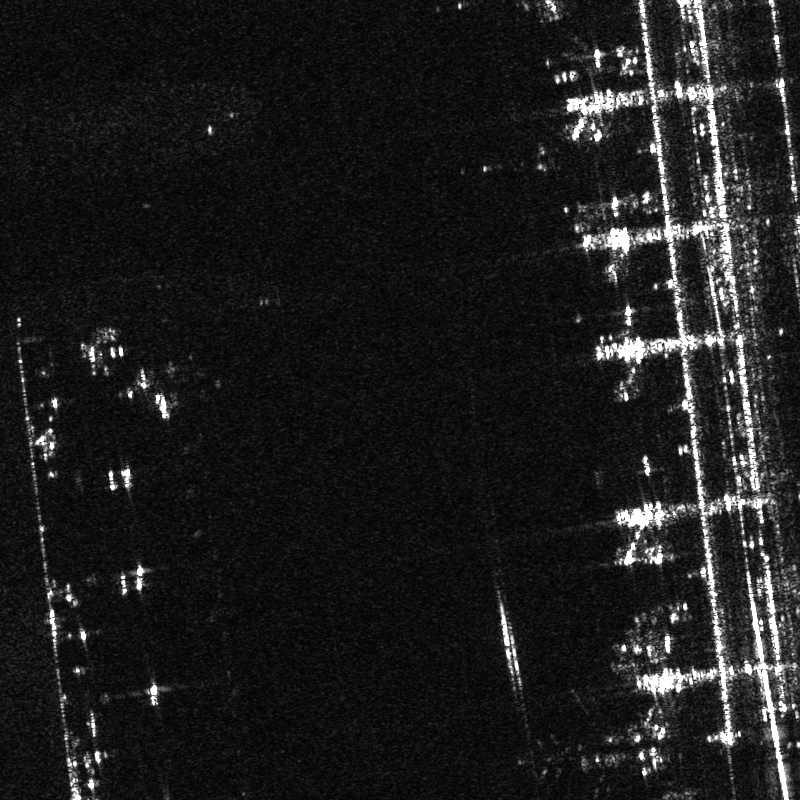A330: (515, 684, 647, 799)
